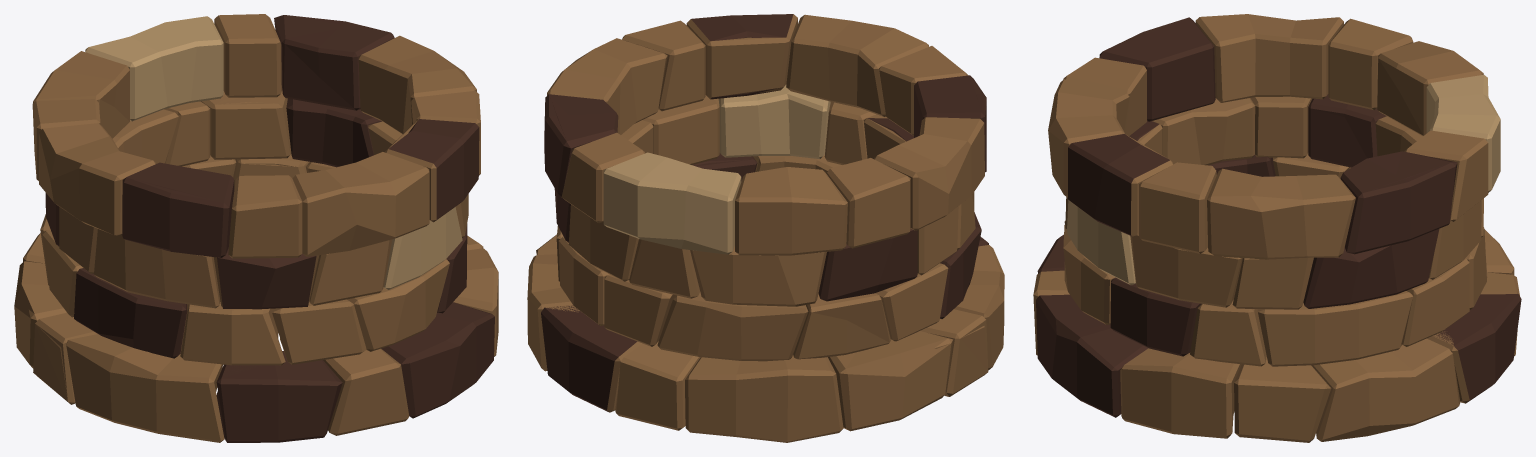
File: Well.fbx
3 views of the same model, side by side, from view 1: azimuth 30°, elevation 25°; view 2: azimuth 150°, elevation 25°; view 3: azimuth 270°, elevation 25° (orthographic).
Visible parts, largest first — view 1: Well003, Well, Well.002, Well.001; view 2: Well003, Well, Well.002, Well.001; view 3: Well003, Well, Well.002, Well.001.
Boxes of the visible parts, box(x1,y1,x2,y2) form: Well003: box(32, 14, 480, 258); Well: box(14, 233, 498, 442); Well.002: box(45, 90, 468, 309); Well.001: box(40, 154, 467, 365); Well003: box(544, 14, 986, 255); Well: box(527, 234, 1004, 442); Well.002: box(554, 84, 975, 306); Well.001: box(556, 153, 981, 361); Well003: box(1048, 14, 1500, 259); Well: box(1033, 229, 1521, 442); Well.002: box(1065, 94, 1483, 309); Well.001: box(1063, 153, 1487, 366).
Bounding box in the file's own units: 164 × 92.14 × 165.
